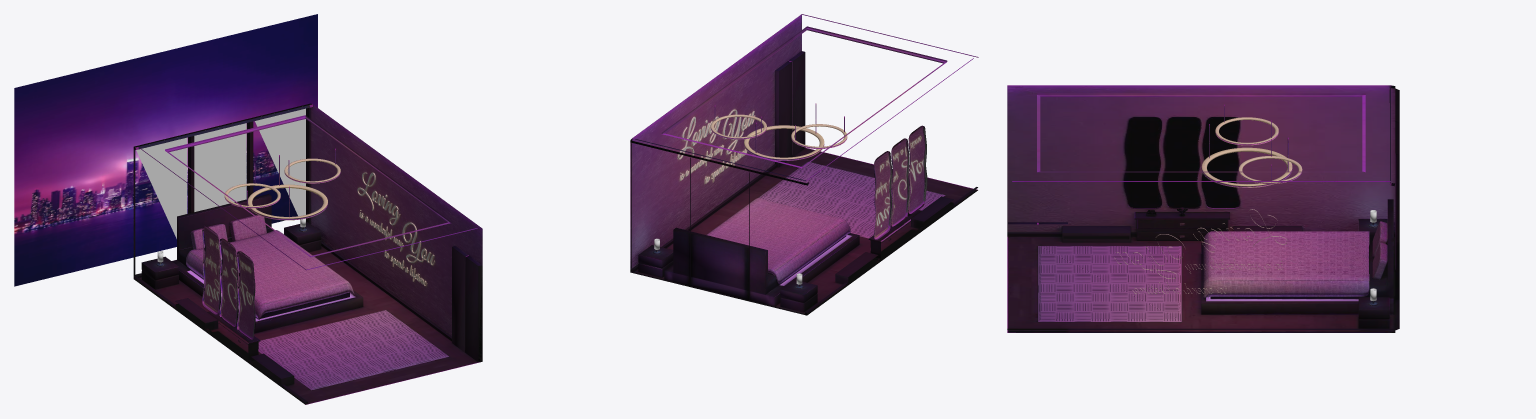
3 renders of one model, left to right at view 1: azimuth 30°, elevation 25°; view 2: azimuth 150°, elevation 25°; view 3: azimuth 270°, elevation 25°, orthographic. The views are drawn at different scales.
Visible parts, largest first — view 1: Neon Bedroom; view 2: Neon Bedroom; view 3: Neon Bedroom.
Part boxes in pixels (<box>): Neon Bedroom: <box>14,14,482,404</box>; Neon Bedroom: <box>630,14,978,315</box>; Neon Bedroom: <box>1007,85,1399,332</box>.
Size of the model in its own units: 8.64 by 5.4 by 11.24.
Materials: 13 (12 with a texture image).
